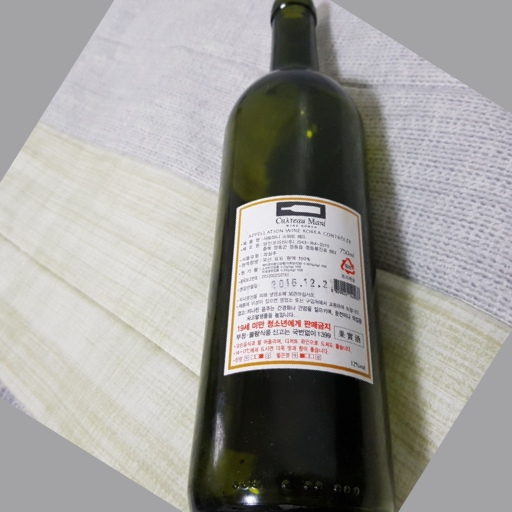Glass_2: (185, 4, 396, 512)
